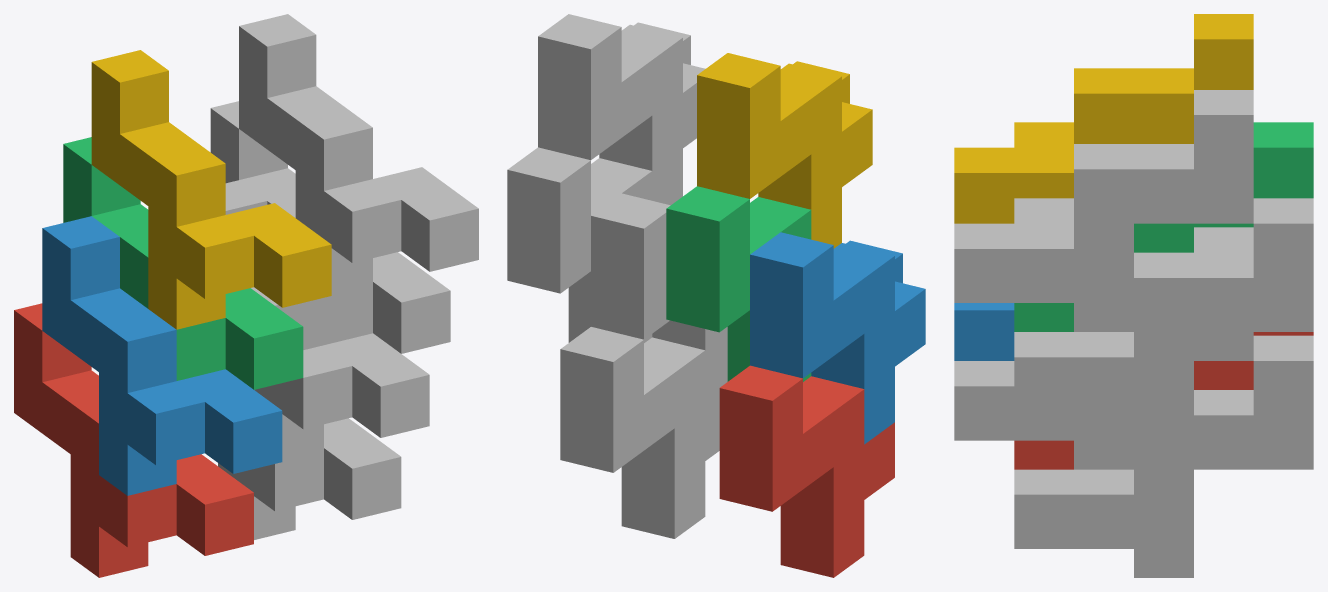
Rendered from tiling.obj.
3 views of the same model, side by side, from view 1: azimuth 30°, elevation 25°; view 2: azimuth 150°, elevation 25°; view 3: azimuth 270°, elevation 25° (orthographic). The views are drawn at different scales.
Visible parts, largest first — view 1: copy_1_domain_4, copy_1_domain_2, copy_1_domain_8, copy_1_domain_1, copy_1_domain_3, copy_1_domain_6, copy_1_domain_7, copy_1_domain_5; view 2: copy_1_domain_1, copy_1_domain_5, copy_1_domain_2, copy_1_domain_4, copy_1_domain_8, copy_1_domain_3, copy_1_domain_7, copy_1_domain_6; view 3: copy_1_domain_8, copy_1_domain_7, copy_1_domain_5, copy_1_domain_4, copy_1_domain_6, copy_1_domain_3, copy_1_domain_1, copy_1_domain_2.
Boxes of the visible parts, x1=… form: copy_1_domain_4: x1=91, y1=50, x2=331, y2=329; copy_1_domain_2: x1=42, y1=216, x2=282, y2=495; copy_1_domain_8: x1=239, y1=14, x2=478, y2=291; copy_1_domain_1: x1=14, y1=303, x2=253, y2=577; copy_1_domain_3: x1=63, y1=137, x2=303, y2=389; copy_1_domain_6: x1=225, y1=180, x2=429, y2=457; copy_1_domain_7: x1=210, y1=101, x2=450, y2=353; copy_1_domain_5: x1=218, y1=418, x2=401, y2=539; copy_1_domain_1: x1=719, y1=365, x2=894, y2=577; copy_1_domain_5: x1=560, y1=327, x2=719, y2=538; copy_1_domain_2: x1=750, y1=232, x2=925, y2=444; copy_1_domain_4: x1=697, y1=53, x2=872, y2=248; copy_1_domain_8: x1=538, y1=14, x2=705, y2=205; copy_1_domain_3: x1=666, y1=186, x2=811, y2=381; copy_1_domain_7: x1=507, y1=147, x2=652, y2=342; copy_1_domain_6: x1=591, y1=193, x2=727, y2=405; copy_1_domain_8: x1=954, y1=90, x2=1253, y2=331; copy_1_domain_7: x1=1014, y1=198, x2=1313, y2=440; copy_1_domain_5: x1=1014, y1=335, x2=1313, y2=577; copy_1_domain_4: x1=954, y1=14, x2=1253, y2=223; copy_1_domain_6: x1=954, y1=227, x2=1253, y2=469; copy_1_domain_3: x1=1014, y1=122, x2=1313, y2=331; copy_1_domain_1: x1=1014, y1=332, x2=1313, y2=469; copy_1_domain_2: x1=954, y1=303, x2=1014, y2=360.
Size of the model in its own units: 6 by 9 by 6.
